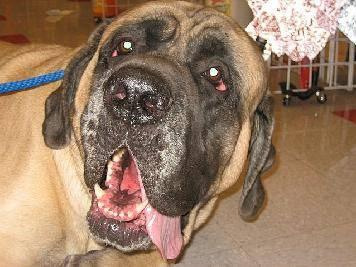dog: (0, 1, 275, 266)
